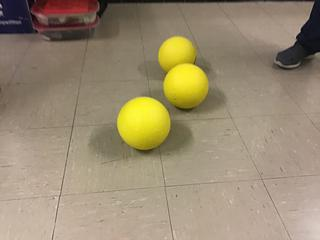power_cell: (114, 93, 177, 154), (161, 64, 209, 110), (157, 34, 201, 79)
